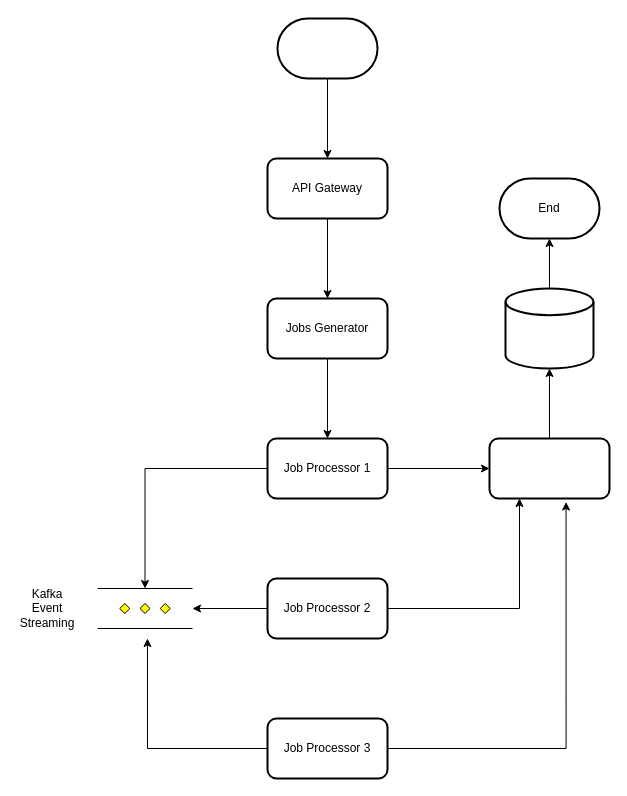
The diagram is 627 pixels wide and 796 high, and some of its shapes have lost their labels. The shapes that lost their labels are listed below. From the top down, each one's centre as x and y in pixels, then its label:
pixel 327 48: Start
pixel 549 328: Aerospike DB
pixel 549 468: Job Finalizer
